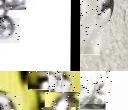ironball: (80, 0, 108, 47), (80, 71, 111, 104), (26, 71, 60, 90), (43, 92, 78, 109), (47, 71, 73, 93), (0, 18, 18, 43), (0, 92, 18, 109), (3, 0, 25, 10), (48, 71, 64, 78)
